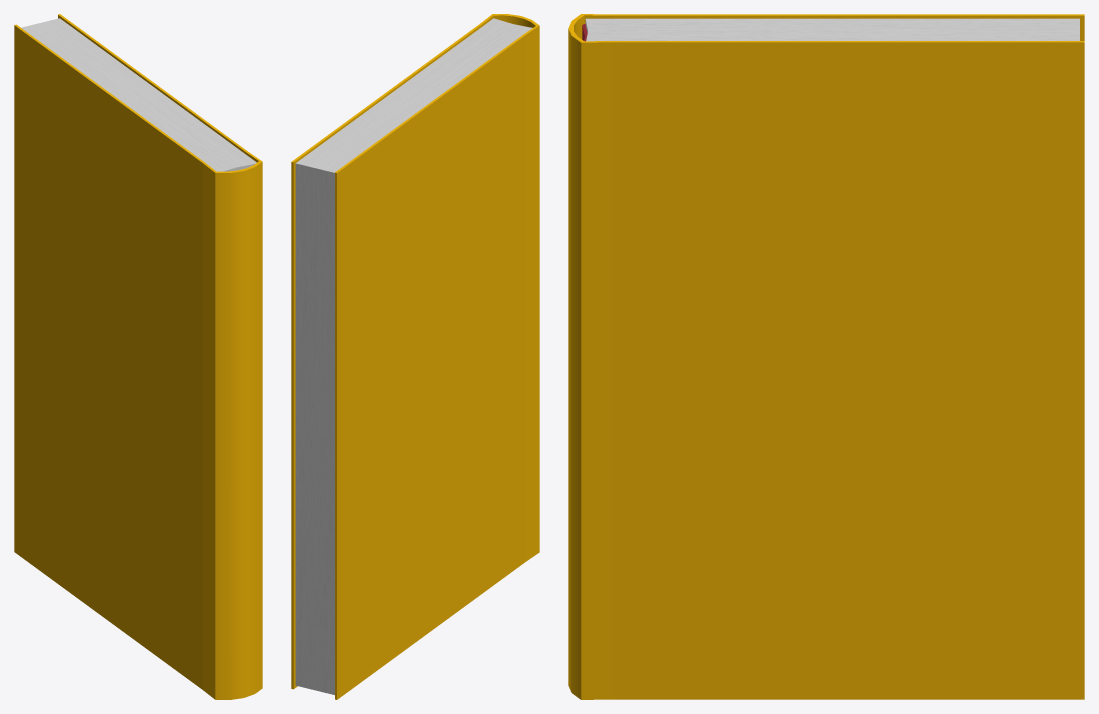
The model's file is Libro Vertical.glb.
3 renders of one model, left to right at view 1: azimuth 30°, elevation 25°; view 2: azimuth 150°, elevation 25°; view 3: azimuth 270°, elevation 25°, orthographic. The views are drawn at different scales.
Visible parts, largest first — view 1: 1a72c5d3-66f4-4e47-af59-5f6b39b041c3, 67d9722a-292c-4c75-a7ee-da39094c08da; view 2: 1a72c5d3-66f4-4e47-af59-5f6b39b041c3, 67d9722a-292c-4c75-a7ee-da39094c08da; view 3: 1a72c5d3-66f4-4e47-af59-5f6b39b041c3, 67d9722a-292c-4c75-a7ee-da39094c08da.
Boxes of the visible parts, box(x1,y1,x2,y2) form: 1a72c5d3-66f4-4e47-af59-5f6b39b041c3: box(14, 14, 262, 699); 67d9722a-292c-4c75-a7ee-da39094c08da: box(21, 18, 256, 171); 1a72c5d3-66f4-4e47-af59-5f6b39b041c3: box(291, 14, 539, 699); 67d9722a-292c-4c75-a7ee-da39094c08da: box(295, 18, 532, 694); 1a72c5d3-66f4-4e47-af59-5f6b39b041c3: box(568, 14, 1084, 699); 67d9722a-292c-4c75-a7ee-da39094c08da: box(585, 18, 1079, 41).
Size of the model in its own units: 0.0206 by 0.2199 by 0.1565.
3 materials, 2 textured.
